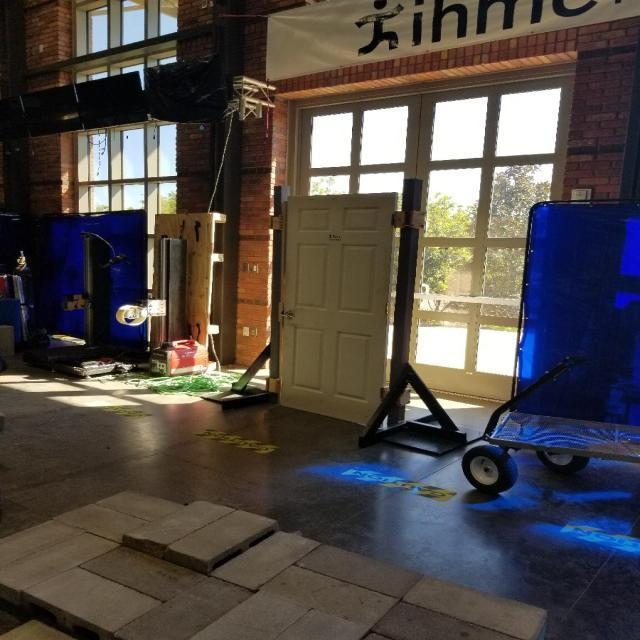door: (272, 190, 400, 433), (282, 308, 298, 316)
